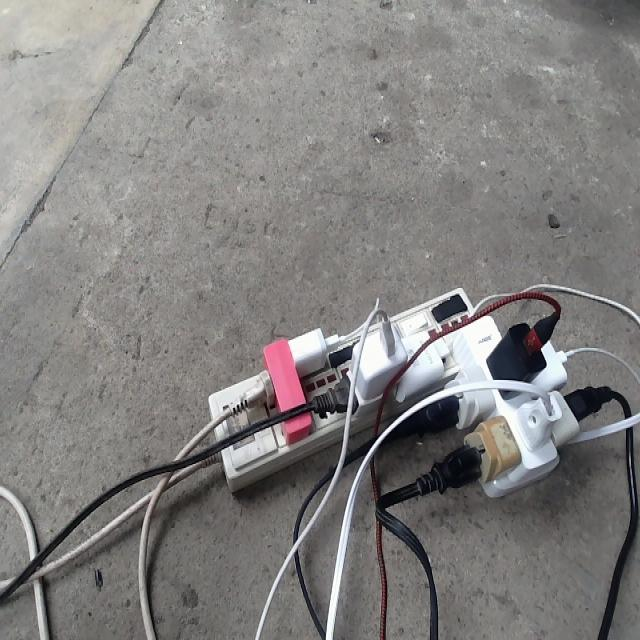-: (205, 283, 586, 501)
